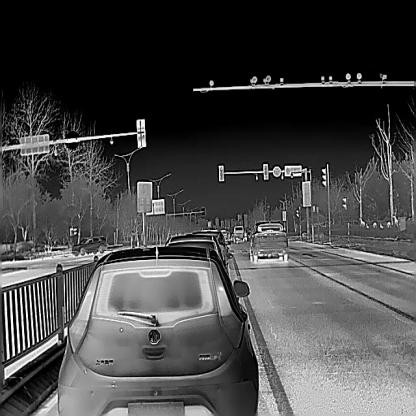car: (57, 246, 259, 415), (164, 233, 232, 278), (246, 220, 288, 262), (189, 229, 231, 267), (70, 235, 106, 256)
truck: (232, 224, 244, 242)
